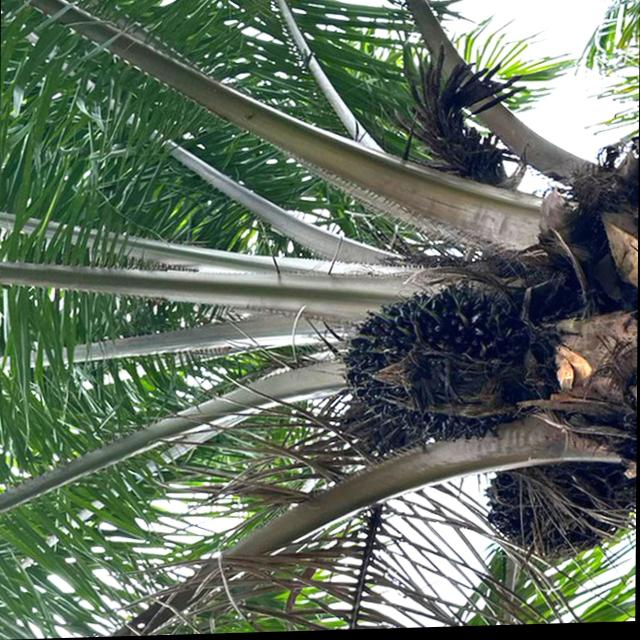unripe: (330, 276, 550, 455), (484, 458, 635, 567)
